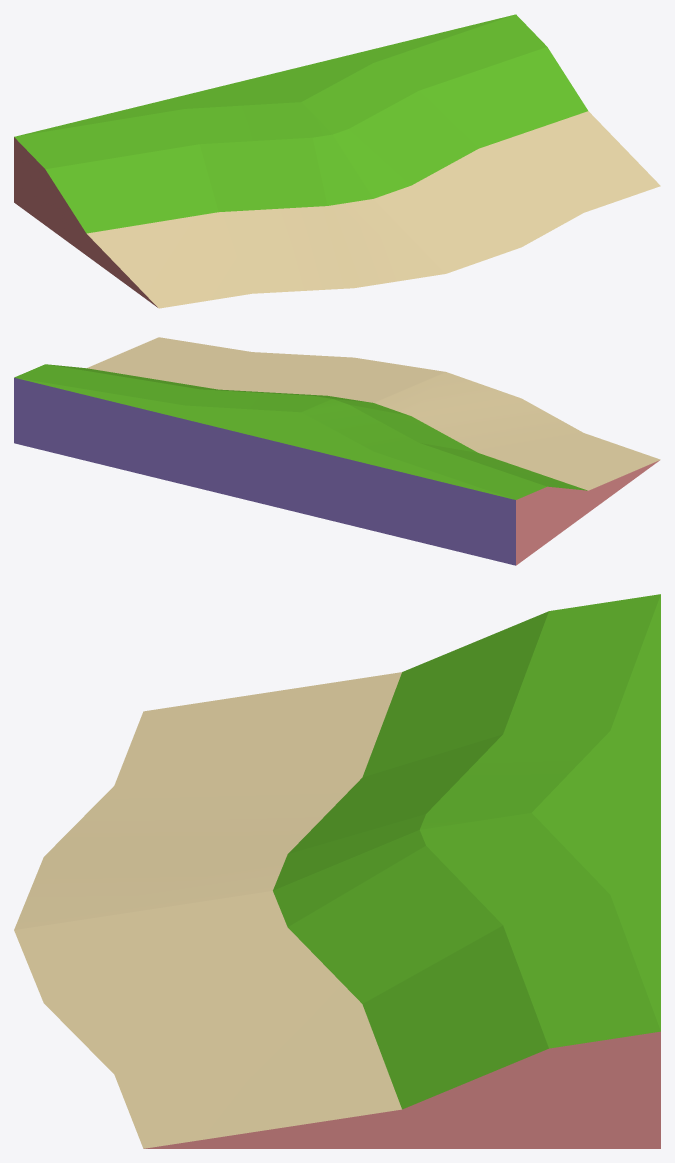
File: Path_Terrain_Deformed_Straight_Convex_2x2.glb
3 renders of one model, top to bottom at view 1: azimuth 30°, elevation 25°; view 2: azimuth 150°, elevation 25°; view 3: azimuth 270°, elevation 25°, orthographic. The views are drawn at different scales.
Visible parts, largest first — view 1: Path_Terrain_Deformed_Straight_Convex_2x2; view 2: Path_Terrain_Deformed_Straight_Convex_2x2; view 3: Path_Terrain_Deformed_Straight_Convex_2x2.
Part boxes in pixels (left/top/right/bottom): Path_Terrain_Deformed_Straight_Convex_2x2: left=14, top=14, right=660, bottom=308; Path_Terrain_Deformed_Straight_Convex_2x2: left=14, top=337, right=660, bottom=565; Path_Terrain_Deformed_Straight_Convex_2x2: left=14, top=594, right=660, bottom=1148.
Bounding box in the file's own units: 200 × 25 × 125.
